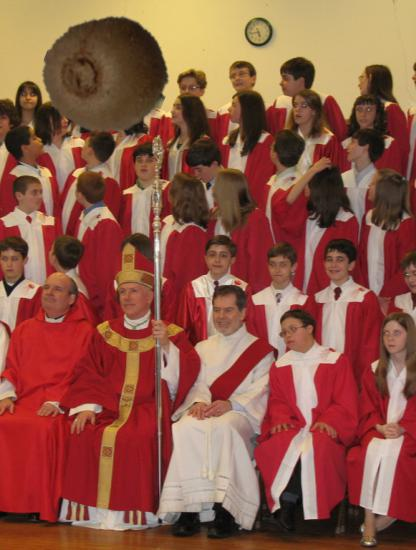Kiwi: (43, 10, 170, 137)
